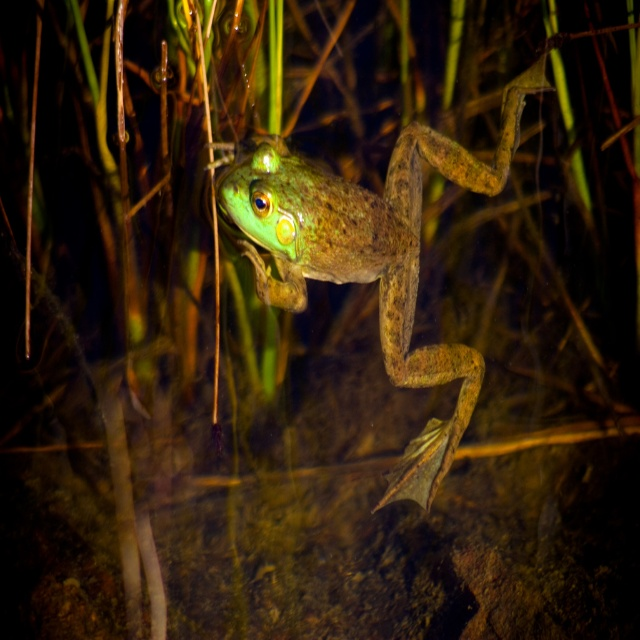Frog: (215, 50, 555, 515)
